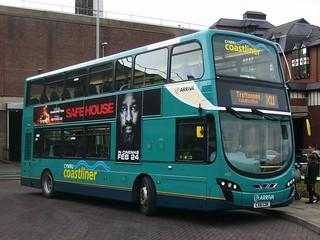bus: (17, 27, 295, 218)
